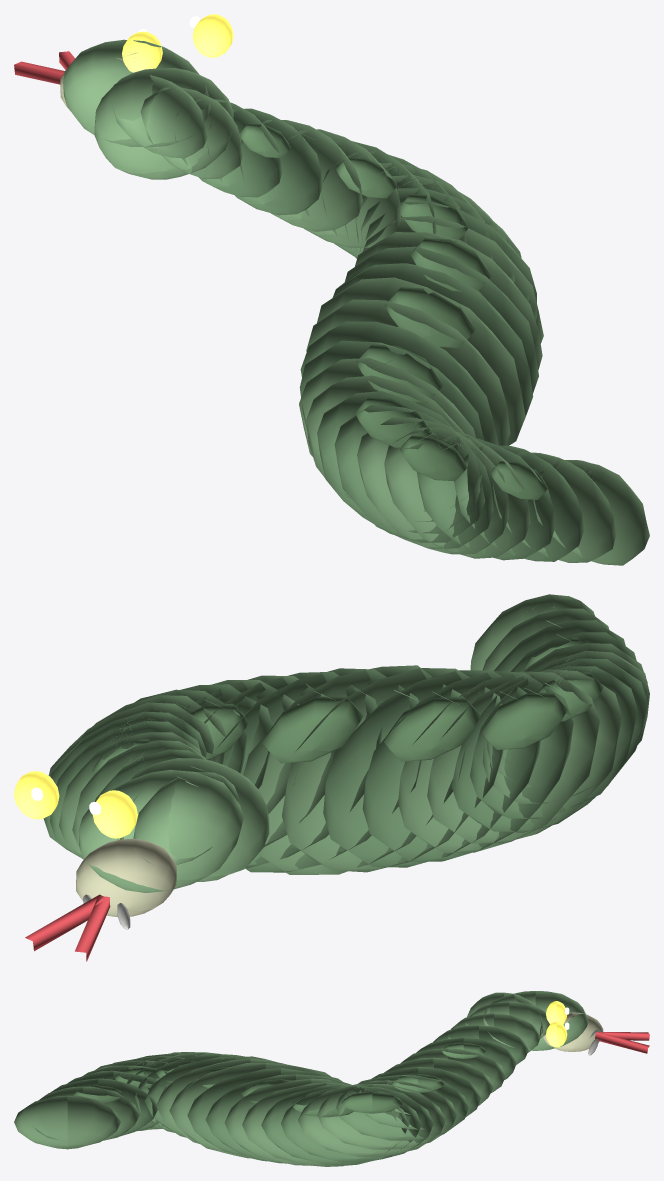
The model's file is enemy_snake.glb.
3 views of the same model, one above another, from view 1: azimuth 30°, elevation 25°; view 2: azimuth 150°, elevation 25°; view 3: azimuth 270°, elevation 25° (orthographic). The views are drawn at different scales.
Visible parts, largest first — view 1: chinchilla; view 2: chinchilla; view 3: chinchilla.
Boxes of the visible parts, x1=… form: chinchilla: x1=14, y1=14, x2=649, y2=565; chinchilla: x1=14, y1=594, x2=649, y2=961; chinchilla: x1=14, y1=991, x2=649, y2=1166.
Bounding box in the file's own units: 0.4023 × 0.3035 × 1.21.
